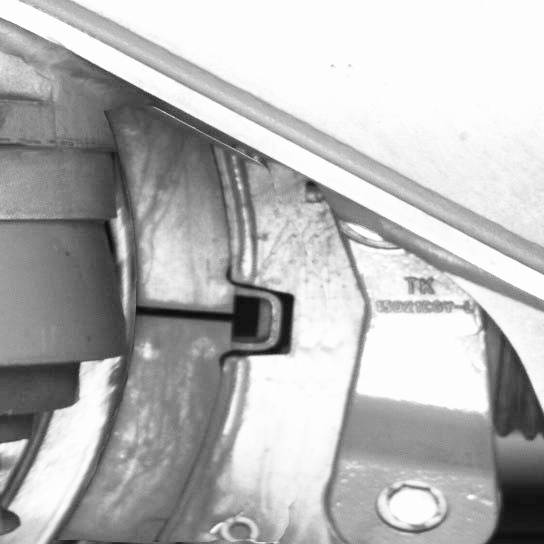ClosedKnifeSwitch: (41, 147, 257, 541)
